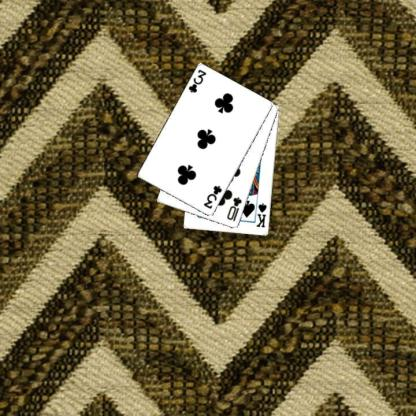10C: (225, 195, 243, 223)
3C: (201, 183, 223, 210), (186, 67, 207, 94)
KS: (254, 200, 268, 229)
